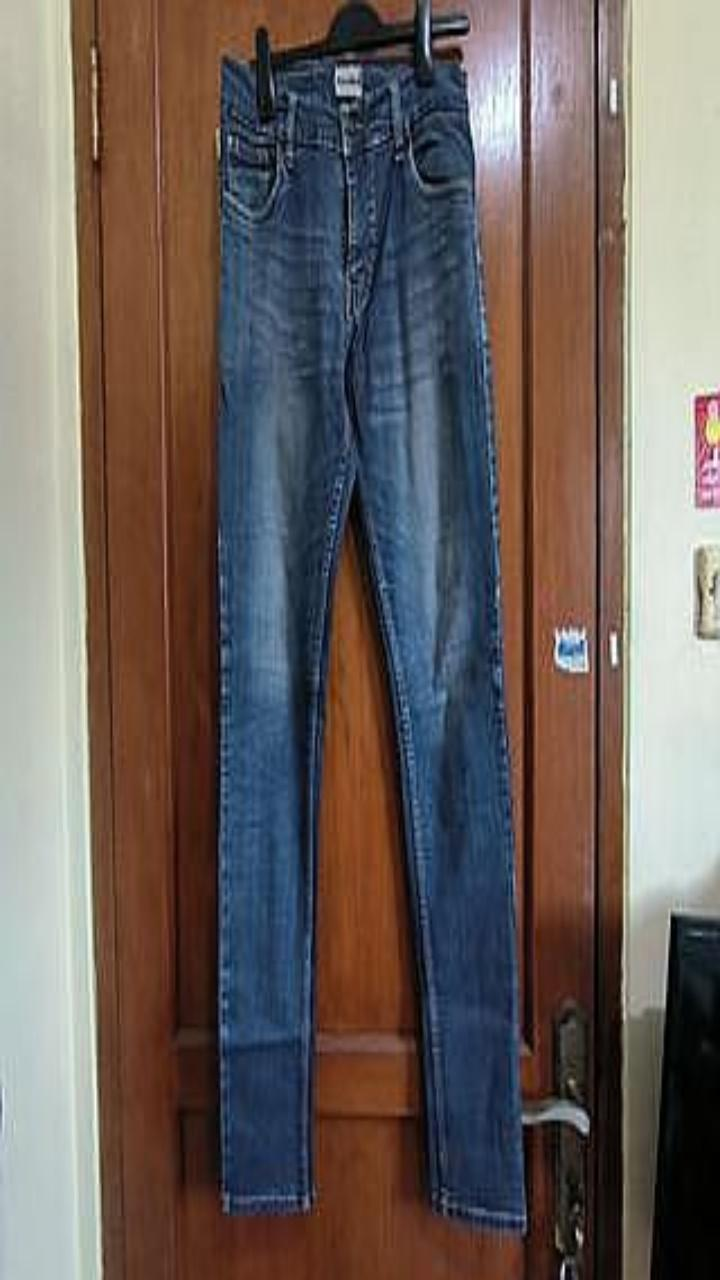Jeans: (218, 57, 525, 1230)
